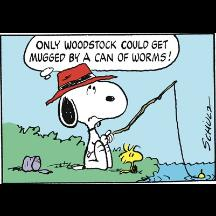snoopy: (45, 61, 127, 171)
